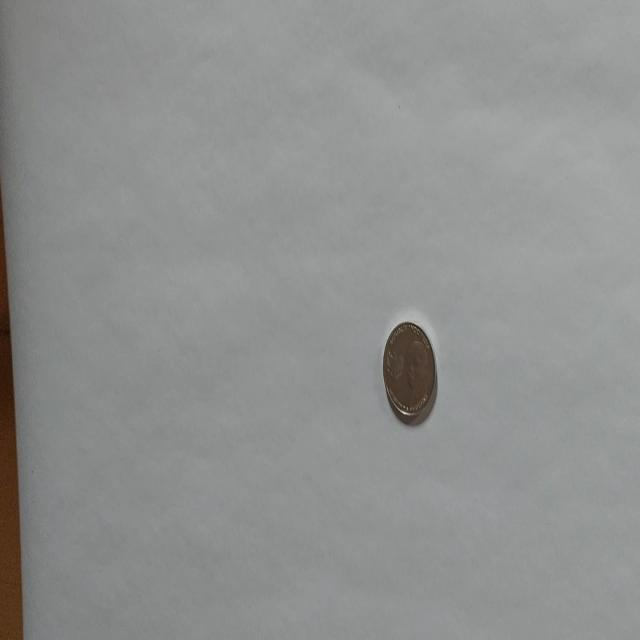lima ratus rupiah: (381, 319, 437, 425)
